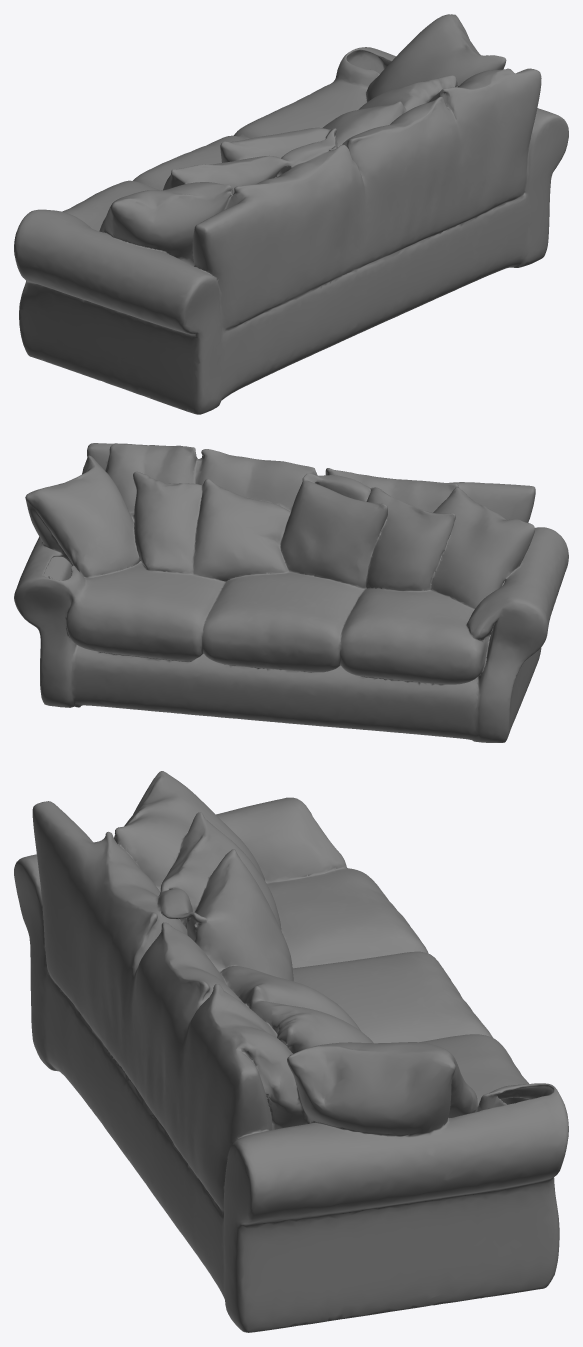
File: sofa.glb
3 views of the same model, one above another, from view 1: azimuth 30°, elevation 25°; view 2: azimuth 150°, elevation 25°; view 3: azimuth 270°, elevation 25° (orthographic). The views are drawn at different scales.
Parts seen in each view (by area): view 1: world; view 2: world; view 3: world.
Boxes of the visible parts, x1=… form: world: x1=14, y1=14, x2=568, y2=414; world: x1=14, y1=443, x2=568, y2=742; world: x1=14, y1=771, x2=568, y2=1332.
Bounding box in the file's own units: 1 × 0.3582 × 0.6494.
1 material, 1 textured.
